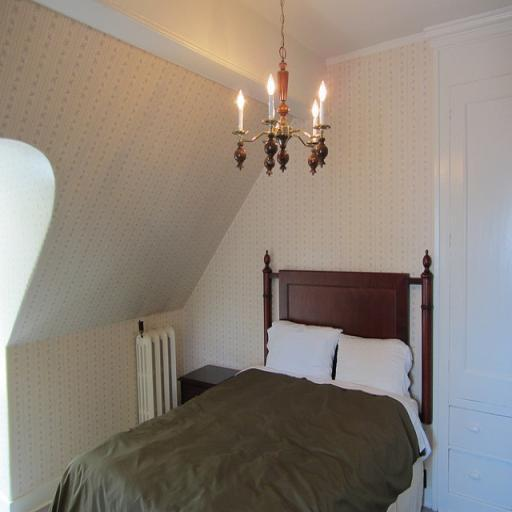bed: (53, 238, 466, 512)
